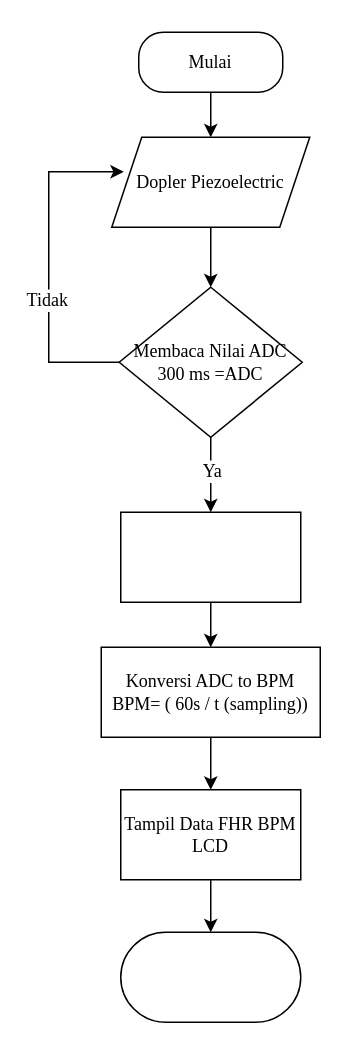
This 347x1049 diagram has some shape labels left out. The centre of each missing label's shape, as x and y in pixels:
Kalman Filter: point (210, 556)
Selesai: point (210, 976)
